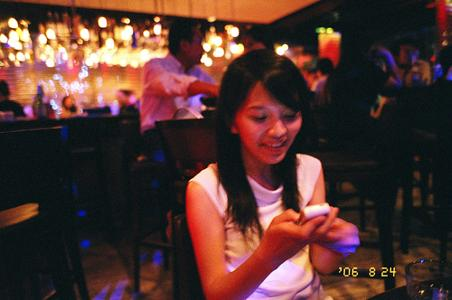person: (184, 49, 361, 299)
